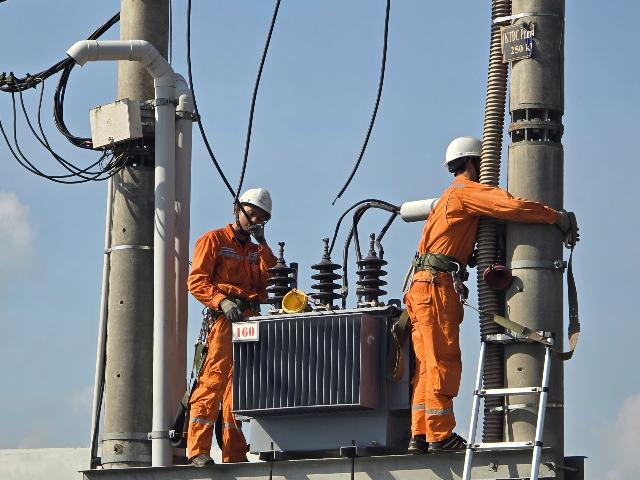gloves: (546, 197, 590, 245), (216, 294, 242, 325)
harness: (406, 247, 479, 280), (198, 281, 261, 312)
helmet: (445, 128, 500, 175), (235, 174, 281, 223)
shoes: (412, 429, 484, 457), (192, 444, 215, 473)
